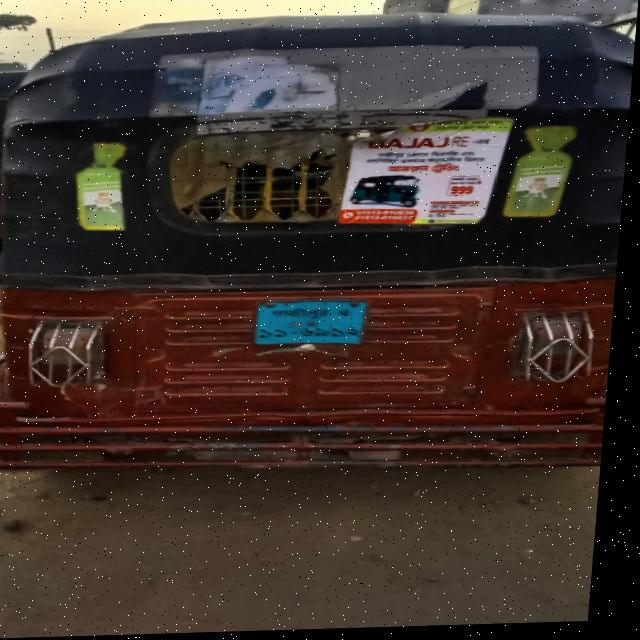cng: (0, 9, 638, 469)
